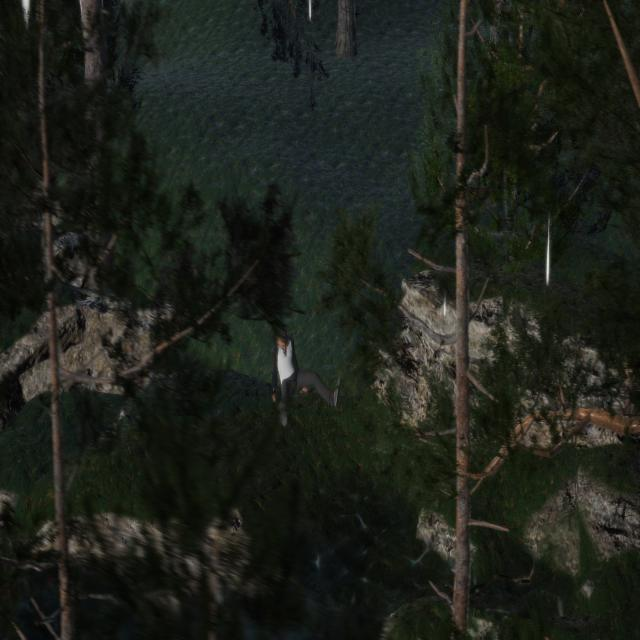Human: (269, 328, 347, 429)
